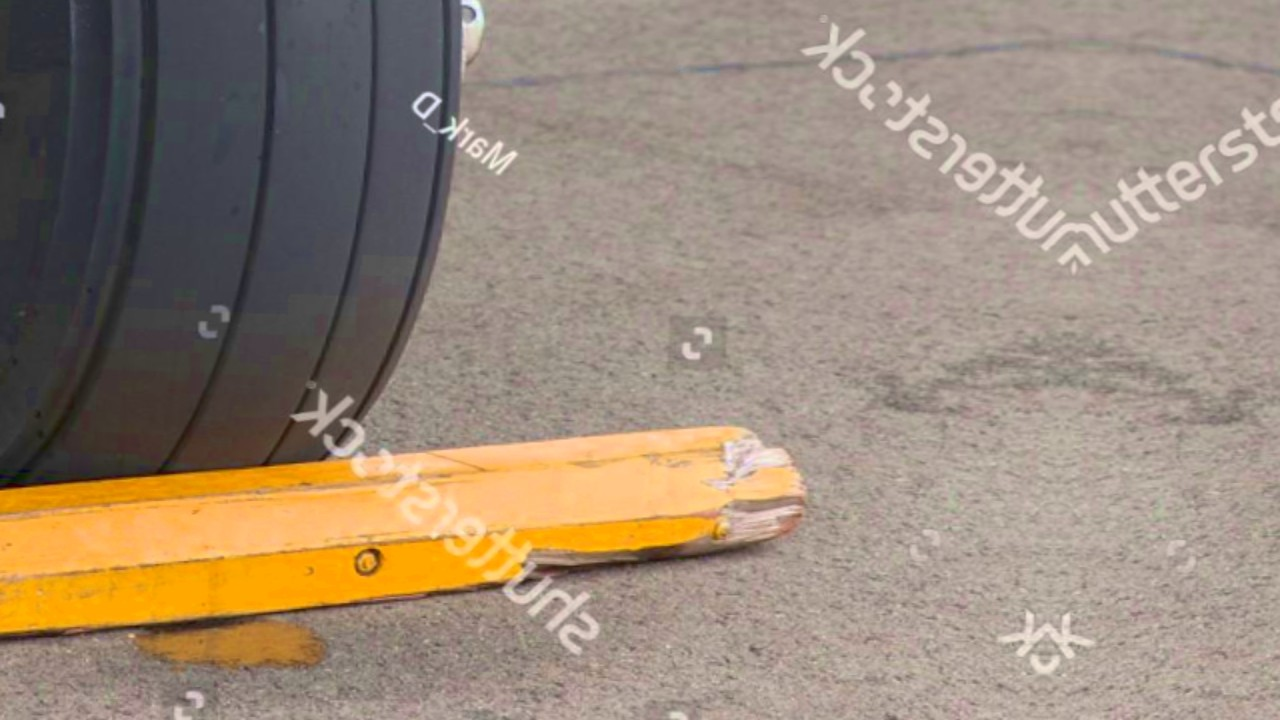chock: (0, 378, 818, 686)
wheel: (0, 0, 507, 533)
